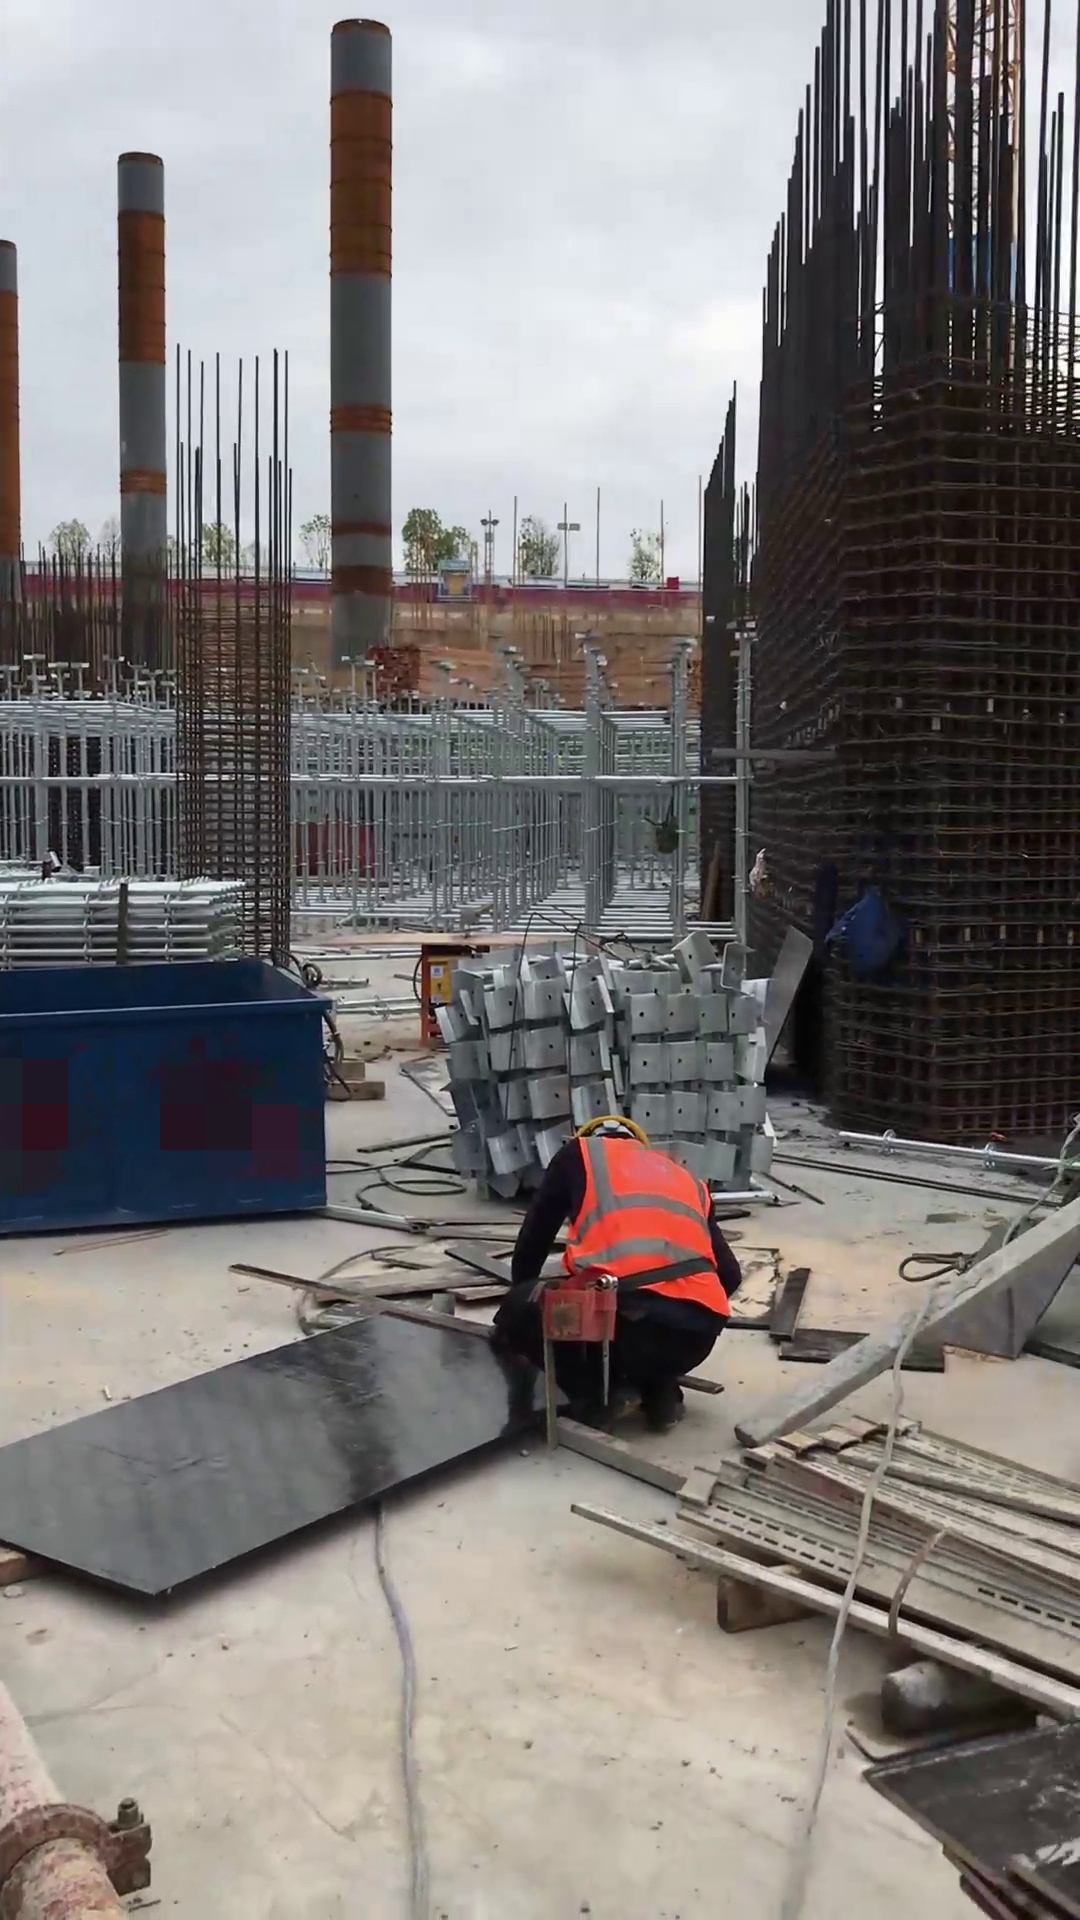cutter: (312, 928, 576, 1051)
helmet: (573, 1114, 654, 1142)
hopper: (1, 953, 338, 1239)
person: (491, 1113, 746, 1432)
scaffold: (1, 875, 253, 976)
vest: (560, 1135, 731, 1319)
wood: (527, 647, 706, 713), (364, 641, 525, 709)
